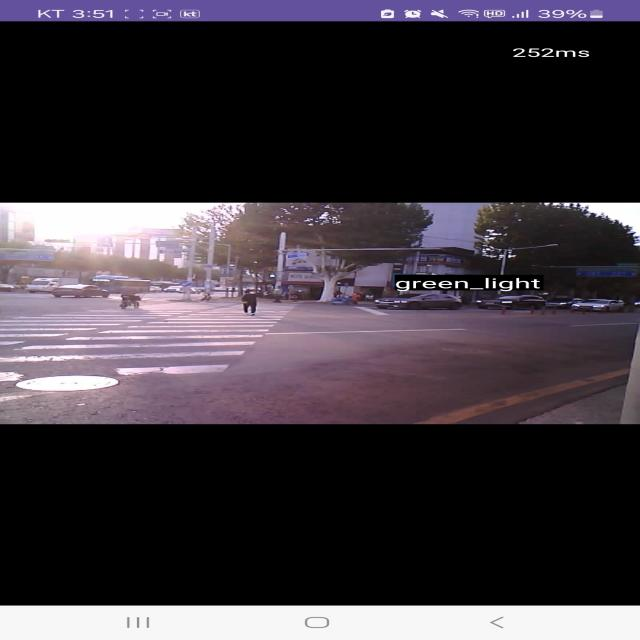crosswalk: (0, 299, 302, 391)
greenlight: (267, 269, 279, 278)
